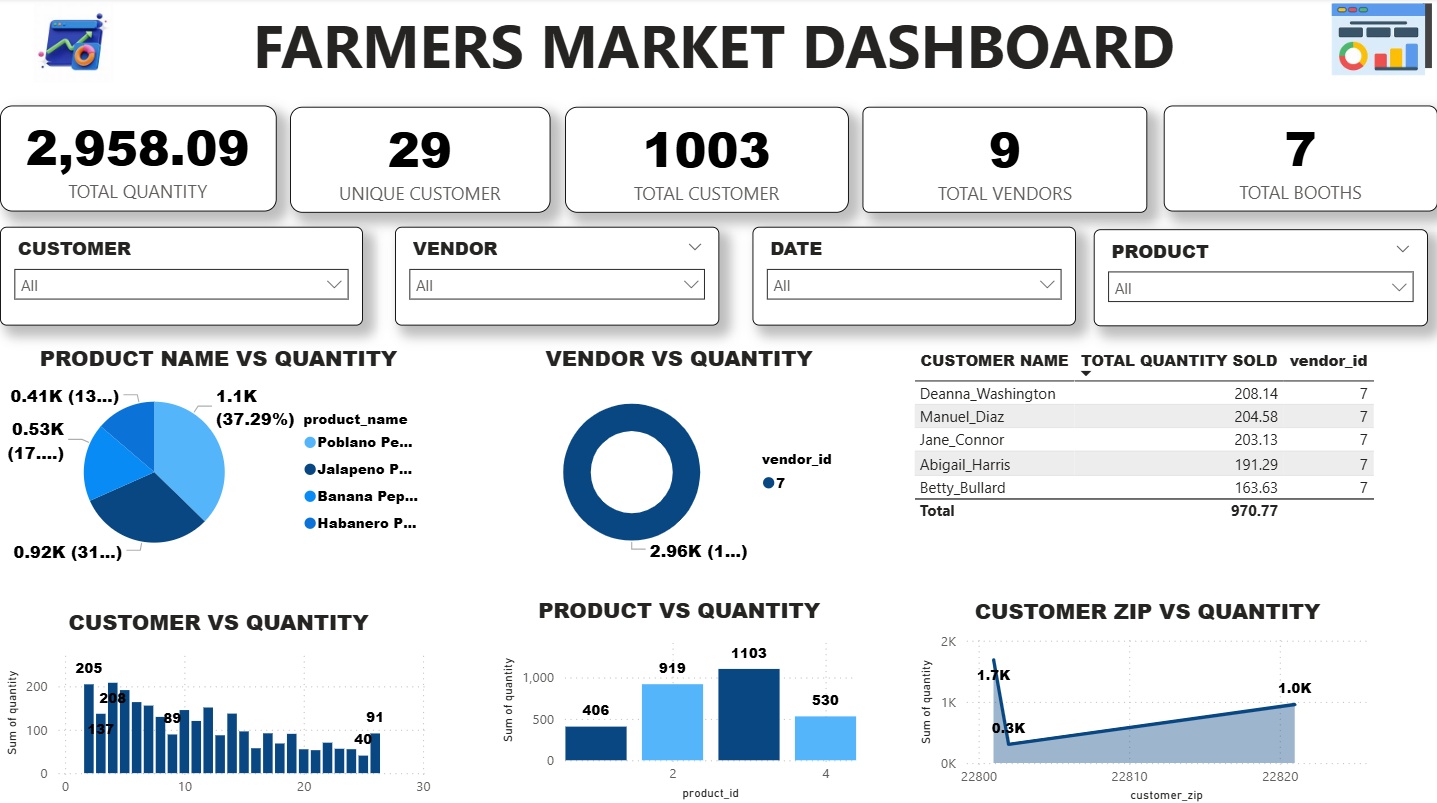

Layout of this report page (visuals, bound fields, positions):
{"tool":"powerbi","page":{"name":"Quantity wise analysis","canvas":[1280,720],"ordinal":0},"visuals":[{"type":"columnChart","title":"CUSTOMER VS QUANTITY","fields":{"Category":["customer_purchases.customer_id"],"Y":["customer_purchases.quantity"]},"box":[0,541.9,389.2,178.4],"z":0},{"type":"clusteredColumnChart","title":"PRODUCT VS QUANTITY","fields":{"Category":["product.product_id"],"Y":["customer_purchases.quantity"]},"box":[441.9,531.1,325.7,187.8],"z":1000},{"type":"pieChart","title":"PRODUCT NAME VS QUANTITY ","fields":{"Category":["product.product_name"],"Y":["customer_purchases.quantity"]},"box":[0,306.8,389.2,204.1],"z":2000},{"type":"donutChart","title":"VENDOR VS QUANTITY","fields":{"Category":["customer_purchases.vendor_id"],"Y":["customer_purchases.quantity"]},"box":[441.9,306.8,325.7,204.1],"z":3000},{"type":"textbox","box":[0,0,1280,73.8],"z":4000},{"type":"image","box":[1175.8,0,104.4,73.6],"z":5000},{"type":"image","box":[0,0,114.3,80.2],"z":6000},{"type":"card","fields":{"Values":["customer_purchases.quantity"]},"box":[0,96,246,94],"z":7000},{"type":"card","fields":{"Values":["customer_purchases.customer_id"]},"box":[258.2,96.7,231.9,94.5],"z":8000},{"type":"card","fields":{"Values":["customer_purchases.customer_id"]},"box":[503.3,96.7,252.7,94.5],"z":9000},{"type":"card","fields":{"Values":["vendor.vendor_id"]},"box":[768.1,96.7,253.8,94.5],"z":10000},{"type":"card","fields":{"Values":["vendor_booth_assignments.booth_number"]},"box":[1036.3,95.6,244,94.5],"z":11000},{"type":"tableEx","fields":{"Values":["customer.Customer_FULL_Name","customer_purchases.quantity","customer_purchases.vendor_id"]},"box":[808.1,306.8,425.7,182.4],"z":12000},{"type":"areaChart","title":"CUSTOMER ZIP VS QUANTITY","fields":{"Category":["customer.customer_zip"],"Y":["customer_purchases.quantity"]},"box":[814.4,532,414.1,189.2],"z":13000},{"type":"actionButton","box":[0,0,100,40],"z":14000},{"type":"slicer","fields":{"Values":["customer.customer_id"]},"box":[0,204.1,323,87.8],"z":15000},{"type":"slicer","fields":{"Values":["customer_purchases.vendor_id"]},"box":[351.4,204.1,289.2,87.8],"z":16000},{"type":"slicer","fields":{"Values":["vendor_booth_assignments.market_date"]},"box":[670.3,204.1,287.8,87.8],"z":17000},{"type":"slicer","fields":{"Values":["customer_purchases.product_id"]},"box":[974.3,205.4,297.3,86.5],"z":18000}]}

Visuals, with their boxes in screenshot pixels (x1, y1, x2, y2), scaled from the page's 1280x720 canvas onto the 1437x803 screenshot:
"CUSTOMER VS QUANTITY" columnChart: BBox(0, 604, 437, 802)
"PRODUCT VS QUANTITY" clusteredColumnChart: BBox(496, 592, 862, 802)
"PRODUCT NAME VS QUANTITY " pieChart: BBox(0, 342, 437, 570)
"VENDOR VS QUANTITY" donutChart: BBox(496, 342, 862, 570)
textbox: BBox(0, 0, 1436, 82)
image: BBox(1320, 0, 1436, 82)
image: BBox(0, 0, 128, 89)
card - customer_purchases.quantity: BBox(0, 107, 276, 212)
card - customer_purchases.customer_id: BBox(290, 108, 550, 213)
card - customer_purchases.customer_id: BBox(565, 108, 849, 213)
card - vendor.vendor_id: BBox(862, 108, 1147, 213)
card - vendor_booth_assignments.booth_number: BBox(1163, 107, 1436, 212)
tableEx - customer.Customer_FULL_Name x customer_purchases.quantity: BBox(907, 342, 1385, 546)
"CUSTOMER ZIP VS QUANTITY" areaChart: BBox(914, 593, 1379, 802)
actionButton: BBox(0, 0, 112, 45)
slicer - customer.customer_id: BBox(0, 228, 363, 326)
slicer - customer_purchases.vendor_id: BBox(395, 228, 719, 326)
slicer - vendor_booth_assignments.market_date: BBox(753, 228, 1076, 326)
slicer - customer_purchases.product_id: BBox(1094, 229, 1428, 326)
